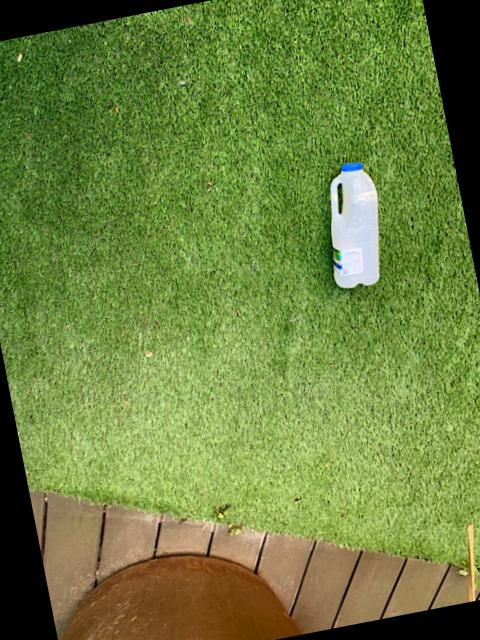plastic: (329, 164, 378, 289)
